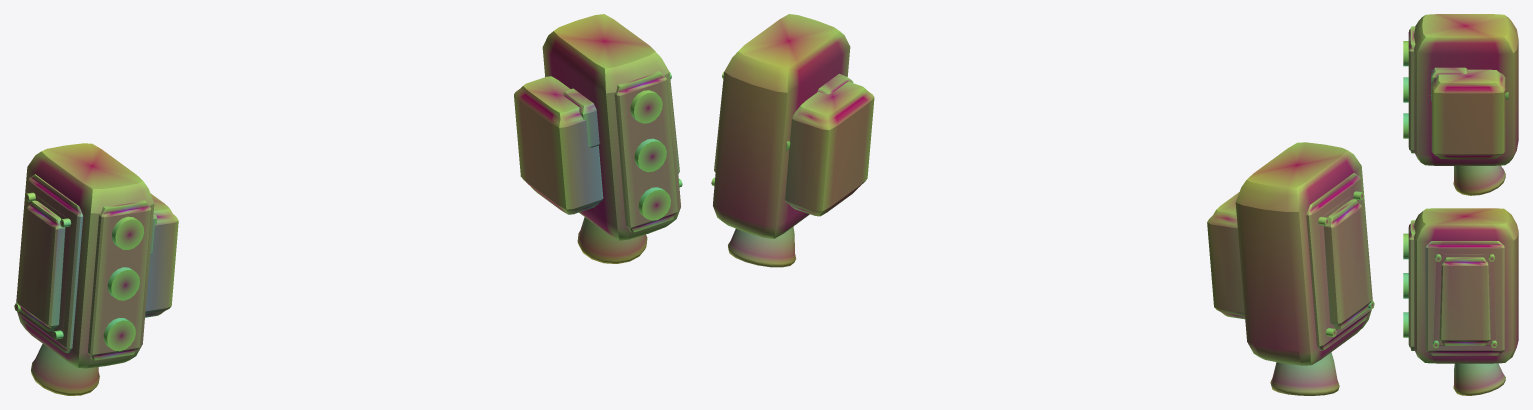
Rendered from llm_gen_leg_thrusters_090_413966.glb.
3 renders of one model, left to right at view 1: azimuth 30°, elevation 25°; view 2: azimuth 150°, elevation 25°; view 3: azimuth 270°, elevation 25°, orthographic. The views are drawn at different scales.
Parts seen in each view (by area): view 1: leg_missile_hull_0_gold_r, leg_missile_hull_0_gold_l, adapter_calf_clamp_r, leg_pod_armor_cover_6_adapter_dark_l, adapter_sub_missile_bezel_dark_1_adapter_dark_l, adapter_sub_missile_bezel_dark_1_adapter_dark_r, adapter_sub_side_frame_dark_5_adapter_dark_l, adapter_calf_clamp_l, leg_ankle_bell_7_vernier_bell_vernier_l, leg_ankle_bell_7_vernier_bell_vernier_r, adapter_leg_knee_mount_dark_8_adapter_dark_r, leg_cell_top_2_crimson_gloss_r (+5 smaller); view 2: leg_missile_hull_0_gold_r, leg_missile_hull_0_gold_l, adapter_calf_clamp_r, leg_pod_armor_cover_6_adapter_dark_l, adapter_calf_clamp_l, adapter_sub_side_frame_dark_5_adapter_dark_l, leg_ankle_bell_7_vernier_bell_vernier_l, leg_ankle_bell_7_vernier_bell_vernier_r; view 3: leg_missile_hull_0_gold_l, leg_missile_hull_0_gold_r, adapter_calf_clamp_l, leg_pod_armor_cover_6_adapter_dark_r, adapter_sub_side_frame_dark_5_adapter_dark_r, leg_ankle_bell_7_vernier_bell_vernier_r, leg_ankle_bell_7_vernier_bell_vernier_l, adapter_sub_missile_bezel_dark_1_adapter_dark_r, adapter_sub_missile_bezel_dark_1_adapter_dark_l, adapter_leg_knee_mount_dark_8_adapter_dark_l, leg_cell_top_2_crimson_gloss_r, leg_cell_top_2_crimson_gloss_l (+4 smaller).
Boxes of the visible parts, <box> form: leg_missile_hull_0_gold_r: <box>542,14,680,240</box>; leg_missile_hull_0_gold_l: <box>16,143,154,368</box>; adapter_calf_clamp_r: <box>514,76,603,214</box>; leg_pod_armor_cover_6_adapter_dark_l: <box>14,192,71,339</box>; adapter_sub_missile_bezel_dark_1_adapter_dark_l: <box>87,200,151,360</box>; adapter_sub_missile_bezel_dark_1_adapter_dark_r: <box>614,71,678,232</box>; adapter_sub_side_frame_dark_5_adapter_dark_l: <box>17,174,83,353</box>; adapter_calf_clamp_l: <box>145,193,178,317</box>; leg_ankle_bell_7_vernier_bell_vernier_l: <box>31,344,99,395</box>; leg_ankle_bell_7_vernier_bell_vernier_r: <box>577,217,647,263</box>; adapter_leg_knee_mount_dark_8_adapter_dark_r: <box>562,88,599,147</box>; leg_cell_top_2_crimson_gloss_r: <box>630,90,662,123</box>; leg_missile_hull_0_gold_r: <box>713,14,850,238</box>; leg_missile_hull_0_gold_l: <box>1235,142,1372,365</box>; adapter_calf_clamp_r: <box>785,81,874,216</box>; leg_pod_armor_cover_6_adapter_dark_l: <box>1318,191,1374,336</box>; adapter_calf_clamp_l: <box>1207,192,1245,319</box>; adapter_sub_side_frame_dark_5_adapter_dark_l: <box>1306,173,1371,350</box>; leg_ankle_bell_7_vernier_bell_vernier_l: <box>1270,352,1339,395</box>; leg_ankle_bell_7_vernier_bell_vernier_r: <box>728,226,795,267</box>; leg_missile_hull_0_gold_l: <box>1414,14,1518,165</box>; leg_missile_hull_0_gold_r: <box>1414,208,1518,363</box>; adapter_calf_clamp_l: <box>1431,69,1505,159</box>; leg_pod_armor_cover_6_adapter_dark_r: <box>1432,254,1497,347</box>; adapter_sub_side_frame_dark_5_adapter_dark_r: <box>1425,241,1504,355</box>; leg_ankle_bell_7_vernier_bell_vernier_r: <box>1453,363,1505,395</box>; leg_ankle_bell_7_vernier_bell_vernier_l: <box>1453,165,1505,195</box>; adapter_sub_missile_bezel_dark_1_adapter_dark_r: <box>1408,220,1415,350</box>; adapter_sub_missile_bezel_dark_1_adapter_dark_l: <box>1408,26,1415,153</box>; adapter_leg_knee_mount_dark_8_adapter_dark_l: <box>1431,67,1467,100</box>; leg_cell_top_2_crimson_gloss_r: <box>1403,233,1408,259</box>; leg_cell_top_2_crimson_gloss_l: <box>1403,41,1408,66</box>.
Bounding box in the file's own units: 82.81 × 27.94 × 17.17.
